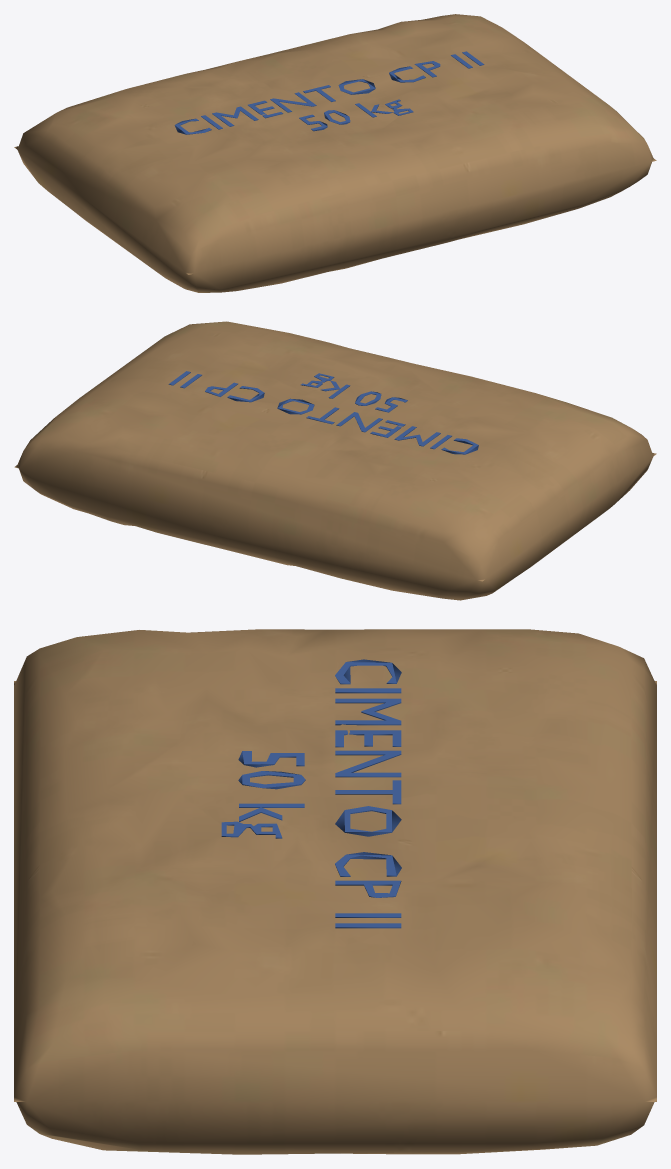
Rendered from EST-CIM-001_lod1.glb.
The picture shows the model from 3 angles, top to bottom: view 1: azimuth 30°, elevation 25°; view 2: azimuth 150°, elevation 25°; view 3: azimuth 270°, elevation 25°; orthographic projection. The views are drawn at different scales.
Visible parts, largest first — view 1: Saco de cimento 50 kg, Rótulo saco; view 2: Saco de cimento 50 kg, Rótulo saco; view 3: Saco de cimento 50 kg, Rótulo saco.
Part boxes in pixels (x1,y1,x2,y2): Saco de cimento 50 kg: (14,14,656,292); Rótulo saco: (174,51,484,134); Saco de cimento 50 kg: (14,321,656,600); Rótulo saco: (168,371,478,454); Saco de cimento 50 kg: (14,629,656,1154); Rótulo saco: (221,659,401,928).
Bounding box in the file's own units: 0.62 × 0.135 × 0.4.
2 materials, 1 textured.
